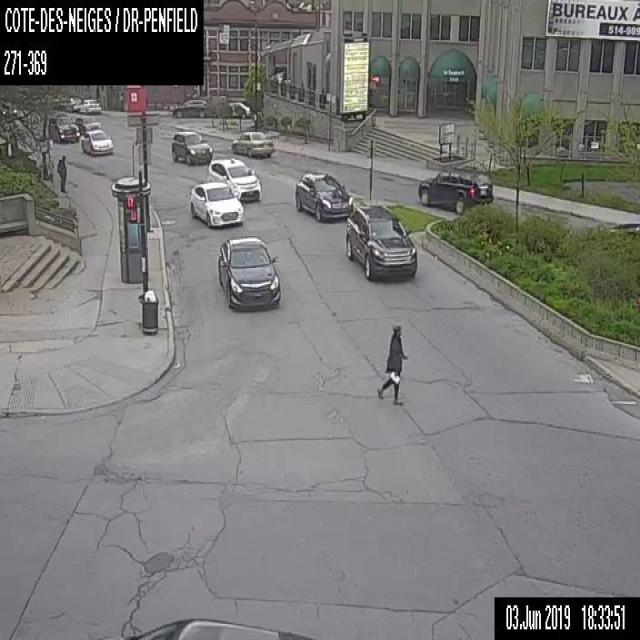pedestrian: (376, 321, 408, 404), (56, 152, 68, 192)
vehicle: (346, 203, 417, 280), (216, 232, 280, 309), (124, 614, 312, 638), (417, 165, 495, 216), (294, 171, 352, 220), (189, 180, 243, 226), (208, 156, 260, 200), (170, 130, 212, 164), (231, 130, 274, 156), (80, 128, 113, 156), (47, 115, 79, 142), (172, 96, 208, 117), (215, 100, 250, 119), (72, 114, 100, 132), (79, 97, 101, 113), (64, 95, 82, 110)
